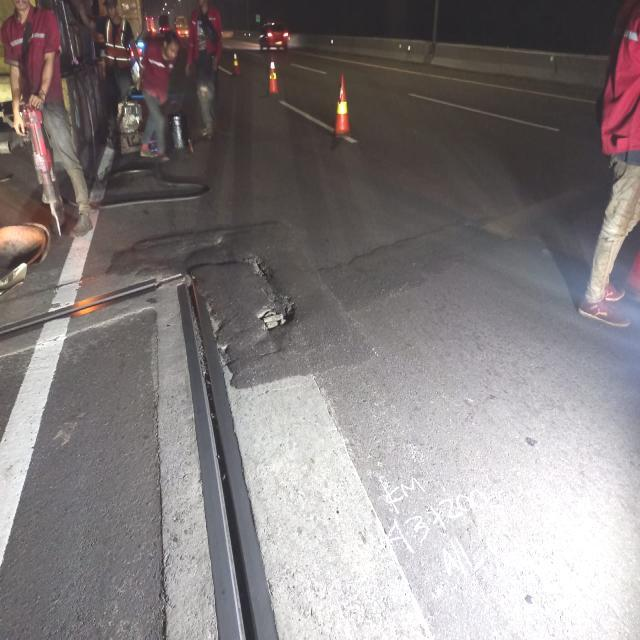Buraco: (241, 250, 299, 334)
